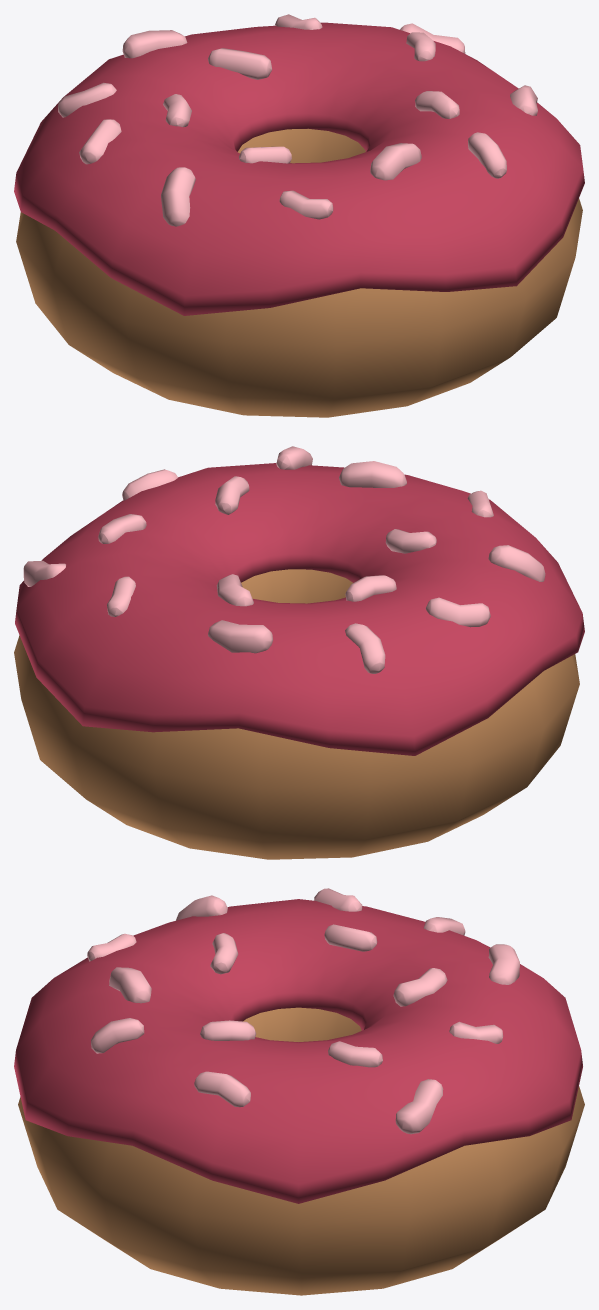
Rendered from Food_Donut_01_Strawberry.glb.
The picture shows the model from 3 angles, top to bottom: view 1: azimuth 30°, elevation 25°; view 2: azimuth 150°, elevation 25°; view 3: azimuth 270°, elevation 25°; orthographic projection.
Visible parts, largest first — view 1: SM_Food_Donut_01_Strawberry_Frosting, SM_Food_Donut_01_Strawberry_Base, SM_Food_Donut_01_Strawberry_Sprinkles; view 2: SM_Food_Donut_01_Strawberry_Frosting, SM_Food_Donut_01_Strawberry_Base, SM_Food_Donut_01_Strawberry_Sprinkles; view 3: SM_Food_Donut_01_Strawberry_Frosting, SM_Food_Donut_01_Strawberry_Base, SM_Food_Donut_01_Strawberry_Sprinkles.
Part boxes in pixels (x1,y1,x2,y2): SM_Food_Donut_01_Strawberry_Frosting: [14, 22, 584, 315]; SM_Food_Donut_01_Strawberry_Base: [16, 128, 582, 417]; SM_Food_Donut_01_Strawberry_Sprinkles: [58, 14, 537, 226]; SM_Food_Donut_01_Strawberry_Frosting: [15, 463, 584, 755]; SM_Food_Donut_01_Strawberry_Base: [14, 569, 579, 859]; SM_Food_Donut_01_Strawberry_Sprinkles: [23, 446, 545, 673]; SM_Food_Donut_01_Strawberry_Frosting: [14, 899, 582, 1203]; SM_Food_Donut_01_Strawberry_Base: [18, 1007, 584, 1295]; SM_Food_Donut_01_Strawberry_Sprinkles: [87, 888, 519, 1134].
Bounding box in the file's own units: 0.3734 × 0.173 × 0.3731.
1 material, 1 textured.
